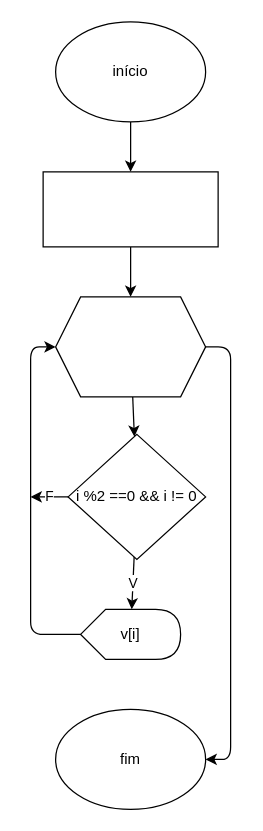
Image size: 263x831. Some labels were removed from this diagram. Here are the shapes that lost their labels. From the top down, the box of each, then its label:
(42, 171, 218, 247): v[] = {45,-89,32,-12,33}
(54, 296, 206, 397): i,0,4,1
